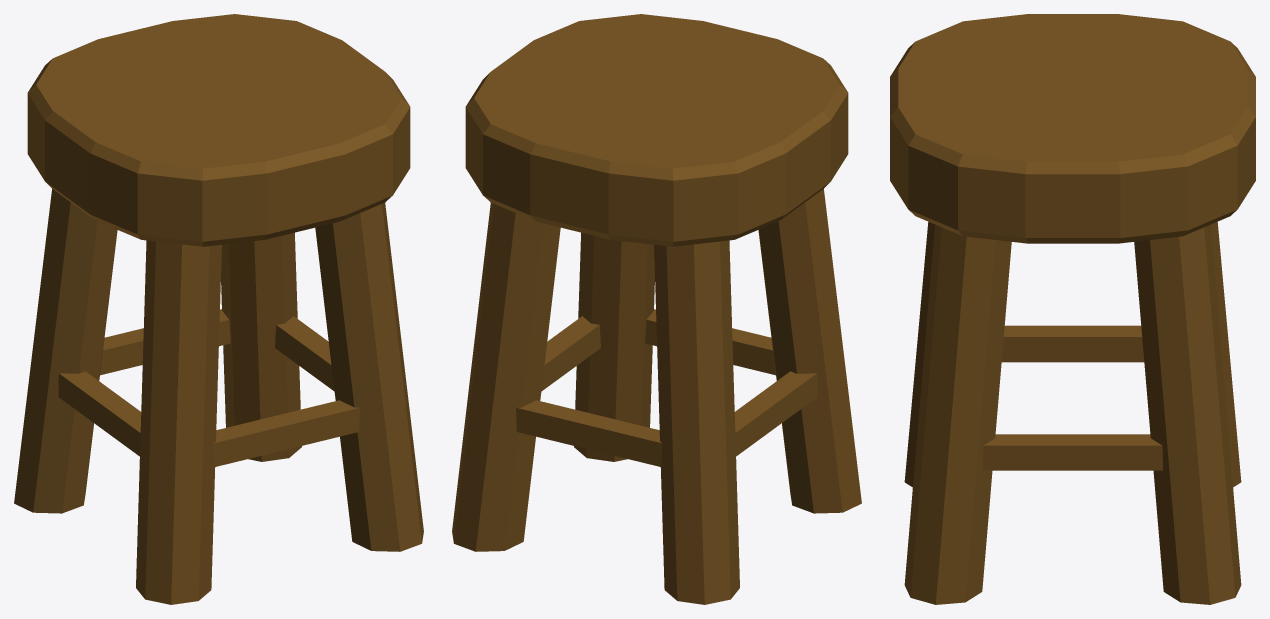
The model's file is Workers_Stool.fbx.
The picture shows the model from 3 angles, left to right: view 1: azimuth 30°, elevation 25°; view 2: azimuth 150°, elevation 25°; view 3: azimuth 270°, elevation 25°; orthographic projection. The views are drawn at different scales.
Visible parts, largest first — view 1: Cube.019; view 2: Cube.019; view 3: Cube.019.
Part boxes in pixels (<box>): Cube.019: <box>14,14,423,604</box>; Cube.019: <box>452,14,861,604</box>; Cube.019: <box>890,14,1255,604</box>.
Size of the model in its own units: 88.17 by 119 by 88.17.
